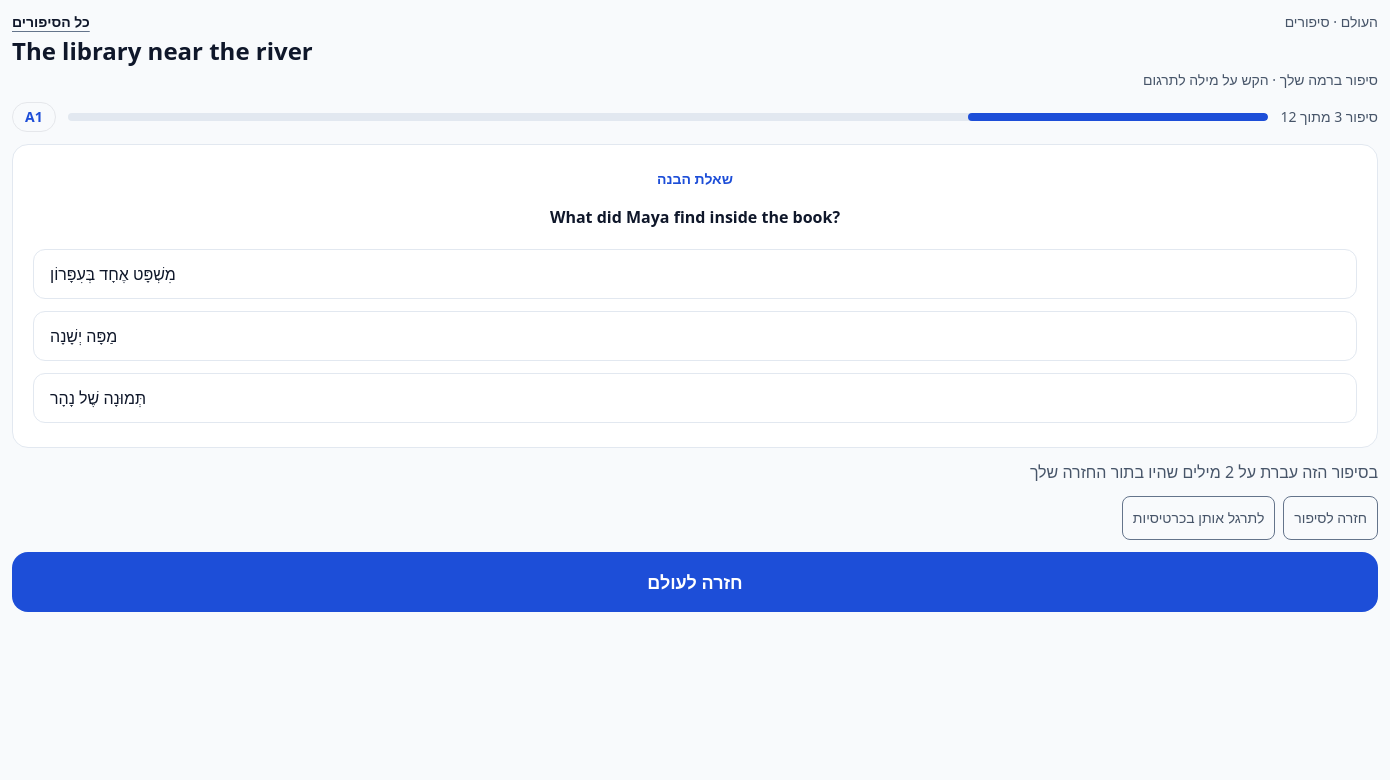
T-381 — חזרה לגוף הסיפור, ⛔ ובלי לאבד את הבחירה › ⓐ בפאזת השאלה יש פעולה משנית שמחזירה לגוף הסיפור
Click the button "חזרה לסיפור": (1331, 518) [1283,496,1378,540]
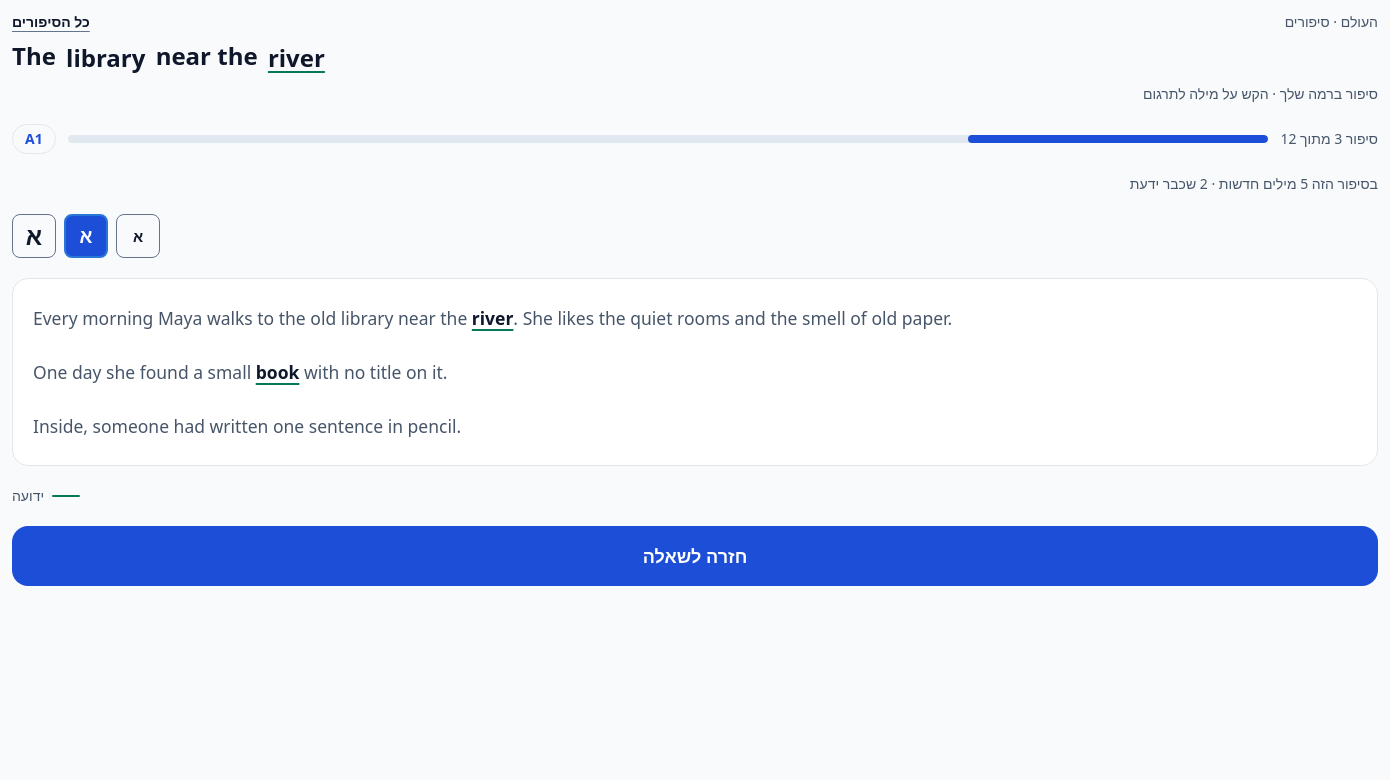
Expected: the element that starts with "Every" is shown, [12,278,1378,466]
Expected: the text "שאלת הבנה" is gone
